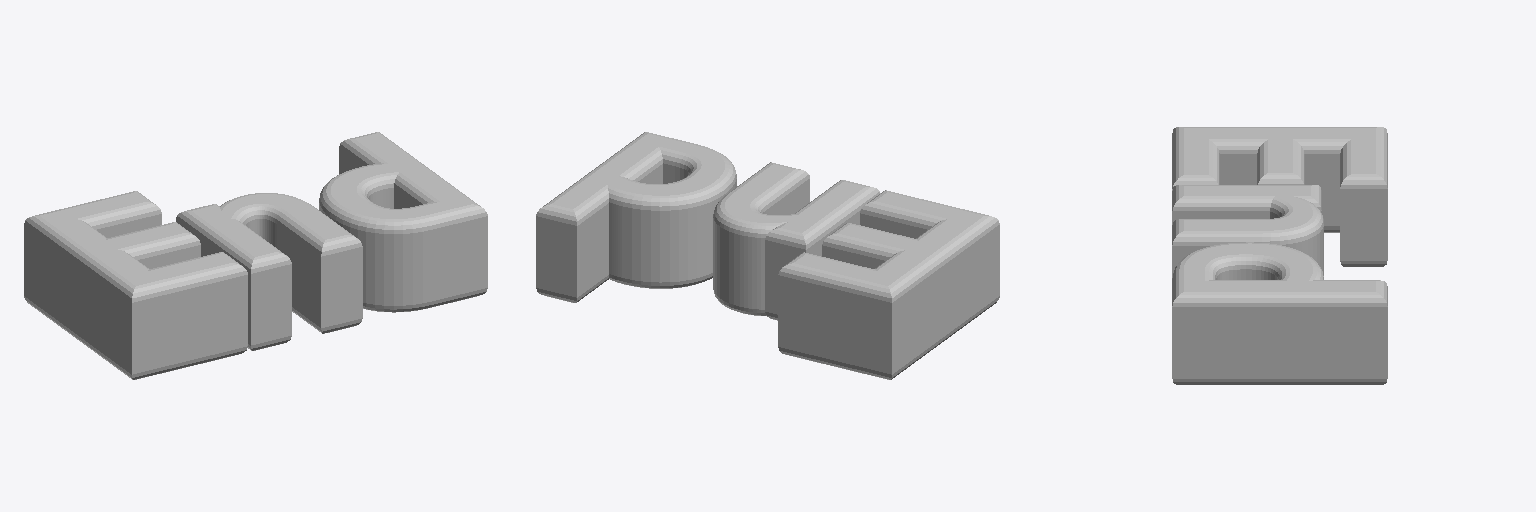
File: SkyPlatforming end.obj
3 views of the same model, side by side, from view 1: azimuth 30°, elevation 25°; view 2: azimuth 150°, elevation 25°; view 3: azimuth 270°, elevation 25° (orthographic).
Visible parts, largest first — view 1: Text; view 2: Text; view 3: Text.
Boxes of the visible parts, box(x1,y1,x2,y2) form: Text: box(24, 132, 487, 379); Text: box(536, 132, 999, 379); Text: box(1172, 127, 1387, 384).
Size of the model in its own units: 1.46 by 0.36 by 0.762.